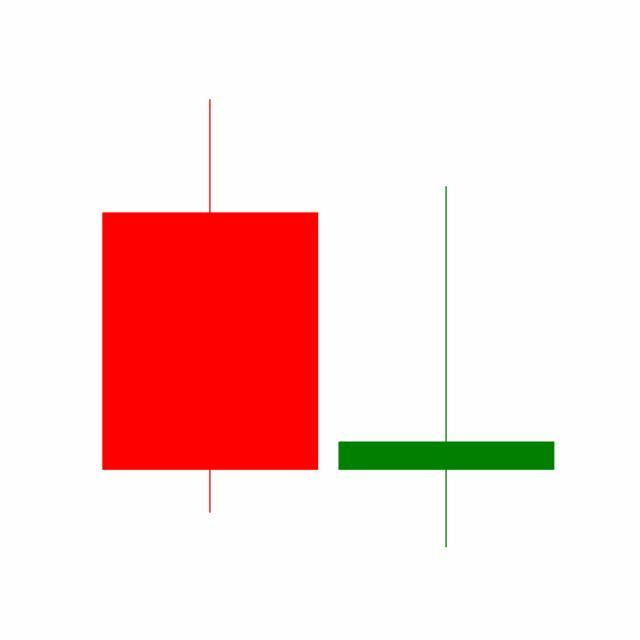Spinning Top: (328, 183, 566, 553)
